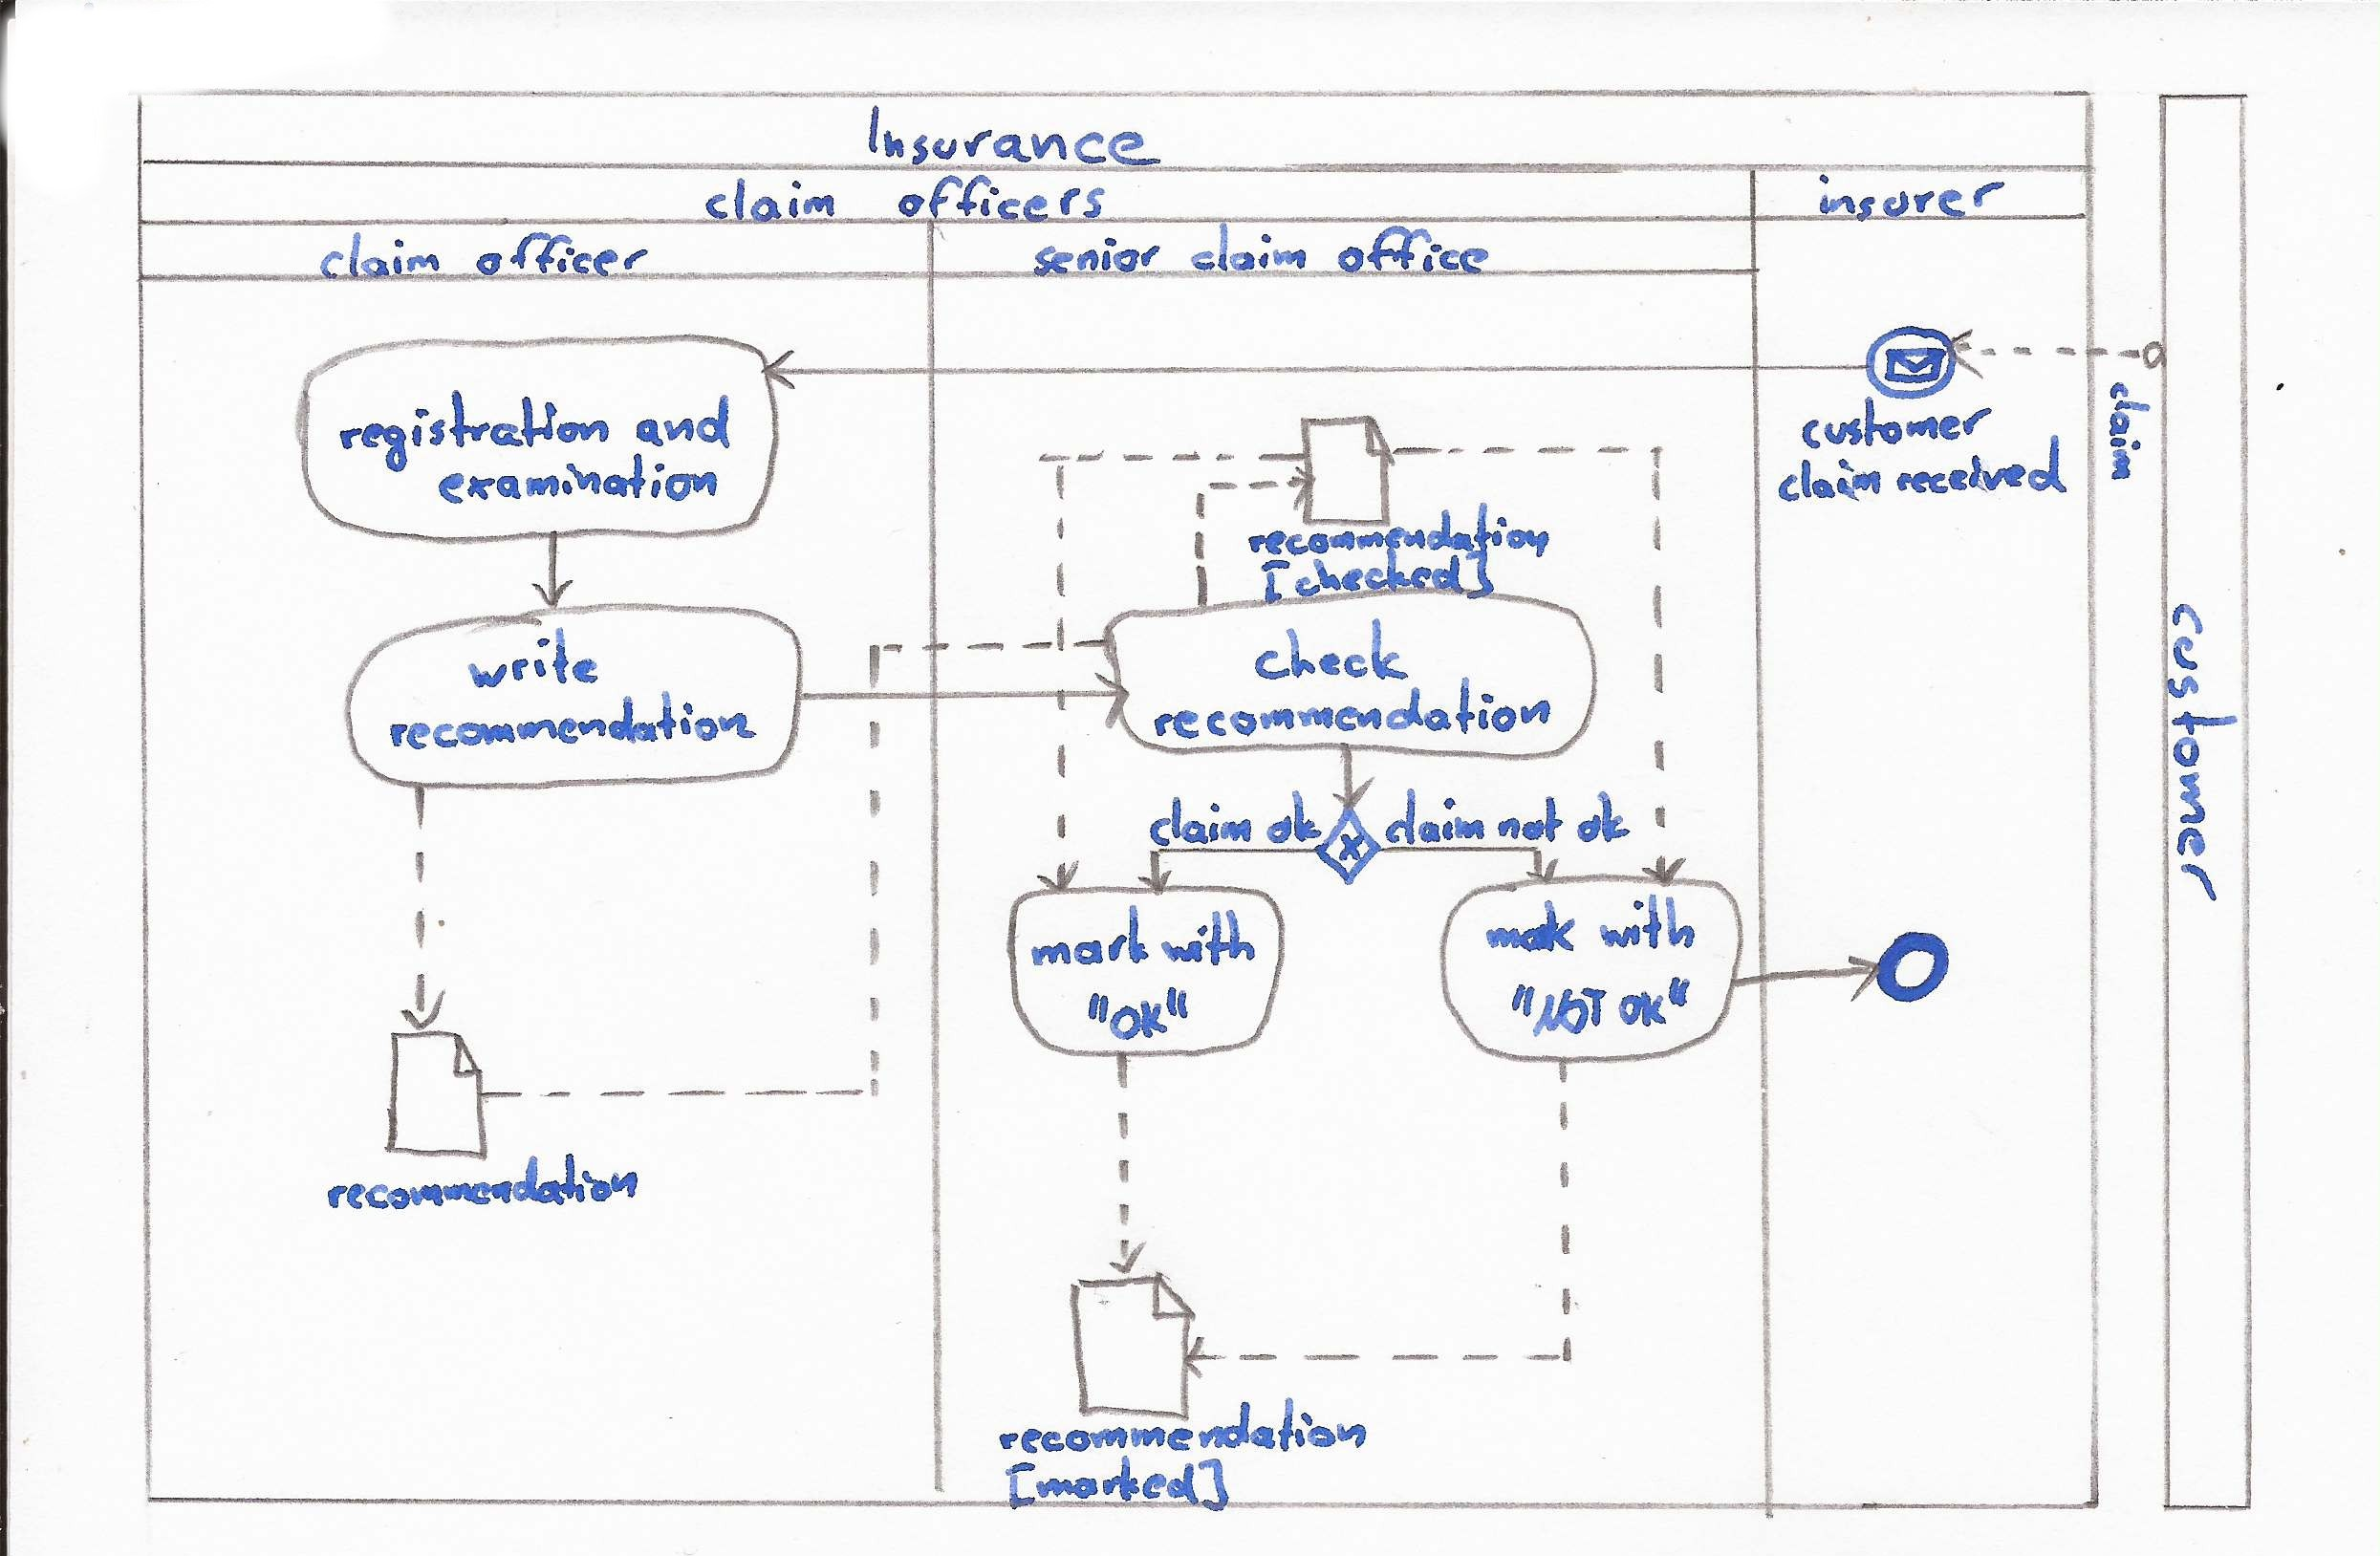Insurance: (858, 97, 1167, 175)
NOT: (1503, 976, 1614, 1045)
OK: (1083, 983, 1196, 1047), (1611, 971, 1694, 1033)
[checked]: (1252, 544, 1500, 611)
[marked]: (998, 1448, 1236, 1520)
and: (628, 386, 740, 458)
check: (1243, 610, 1420, 691)
claim: (698, 168, 845, 231), (1182, 215, 1314, 281), (309, 224, 448, 287), (1377, 781, 1493, 854), (1141, 790, 1262, 856), (1769, 452, 1890, 511), (2102, 375, 2160, 488)
customer: (2161, 594, 2246, 907), (1792, 389, 2002, 457)
examination: (431, 445, 726, 512)
insurer: (1809, 167, 2014, 229)
mark: (1022, 896, 1156, 974), (1477, 891, 1581, 962)
not: (1489, 792, 1571, 849)
office: (1330, 221, 1498, 281)
officer: (467, 224, 658, 285)
officers: (889, 172, 1116, 231)
ok: (1259, 783, 1330, 851), (1568, 783, 1637, 851)
received: (1887, 429, 2076, 504)
recommendation: (1144, 669, 1559, 747), (380, 681, 762, 761), (986, 1389, 1375, 1462), (318, 1146, 646, 1219), (1236, 495, 1557, 566)
registration: (330, 382, 616, 481)
senior: (1024, 233, 1168, 281)
with: (1590, 884, 1705, 957), (1153, 901, 1264, 974)
write: (460, 620, 608, 698)
